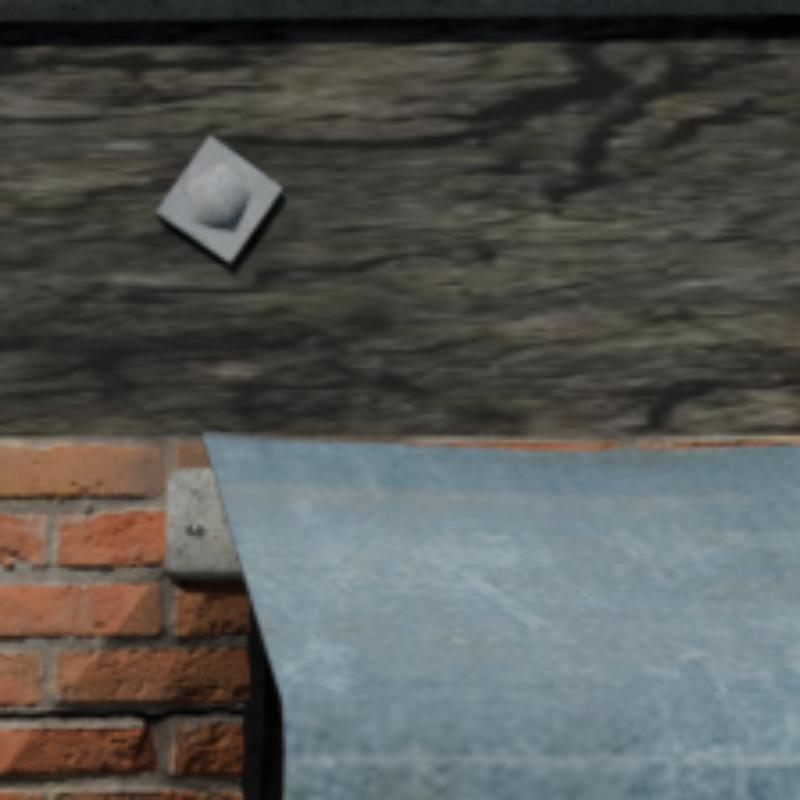crack: (0, 711, 171, 718), (171, 707, 236, 711)
